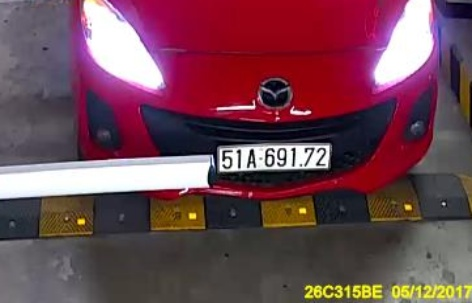plate: (216, 139, 336, 176)
